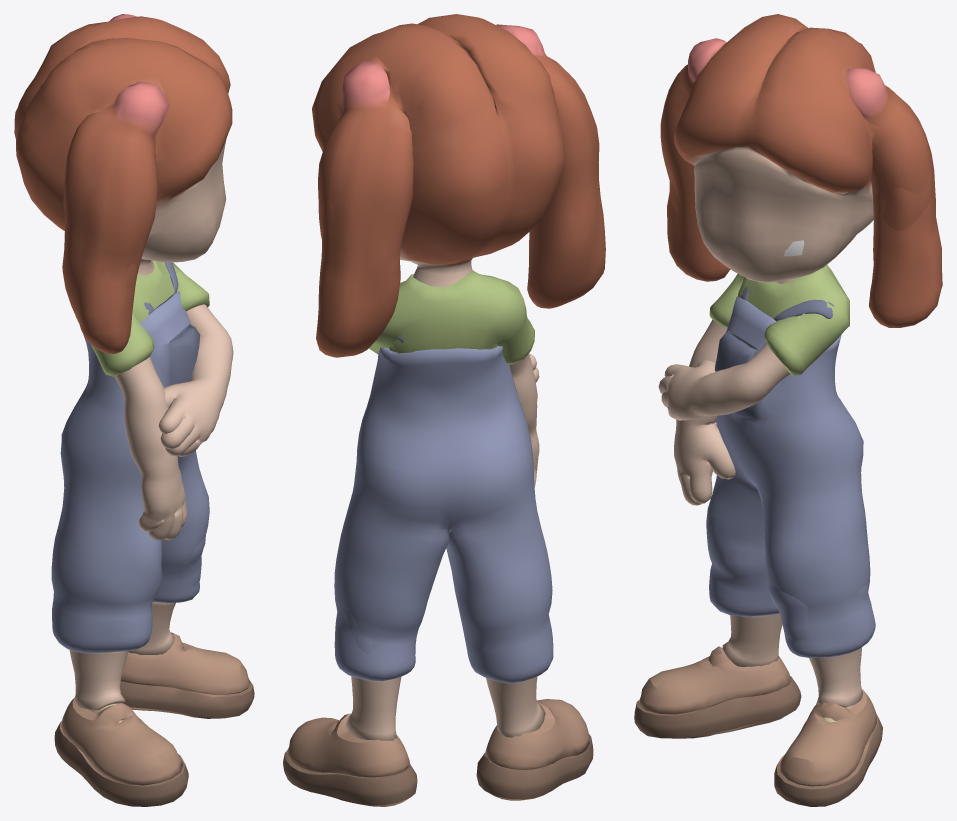
The picture shows the model from 3 angles, left to right: view 1: azimuth 30°, elevation 25°; view 2: azimuth 150°, elevation 25°; view 3: azimuth 270°, elevation 25°; orthographic projection. The views are drawn at different scales.
Parts seen in each view (by area): view 1: Arms.046; view 2: Arms.046; view 3: Arms.046.
Boxes of the visible parts, x1,y1,x2,y2 form: Arms.046: (14,14,254,806); Arms.046: (283,14,605,806); Arms.046: (634,14,942,806).
Bounding box in the file's own units: 58.98 × 168 × 65.49.
